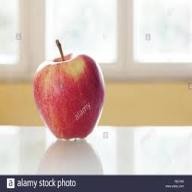apple: (29, 53, 104, 142)
